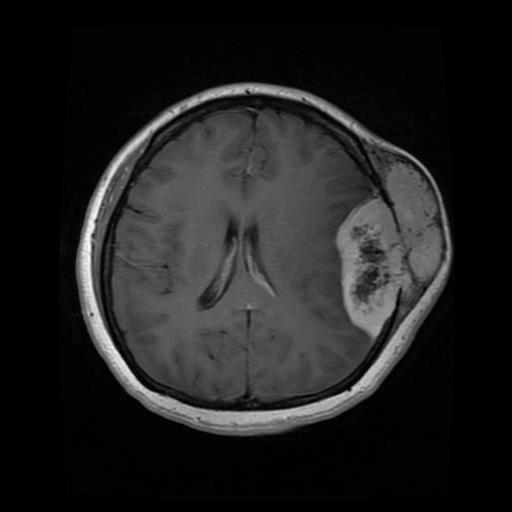Tumour-Meningioma: (299, 176, 450, 348)
